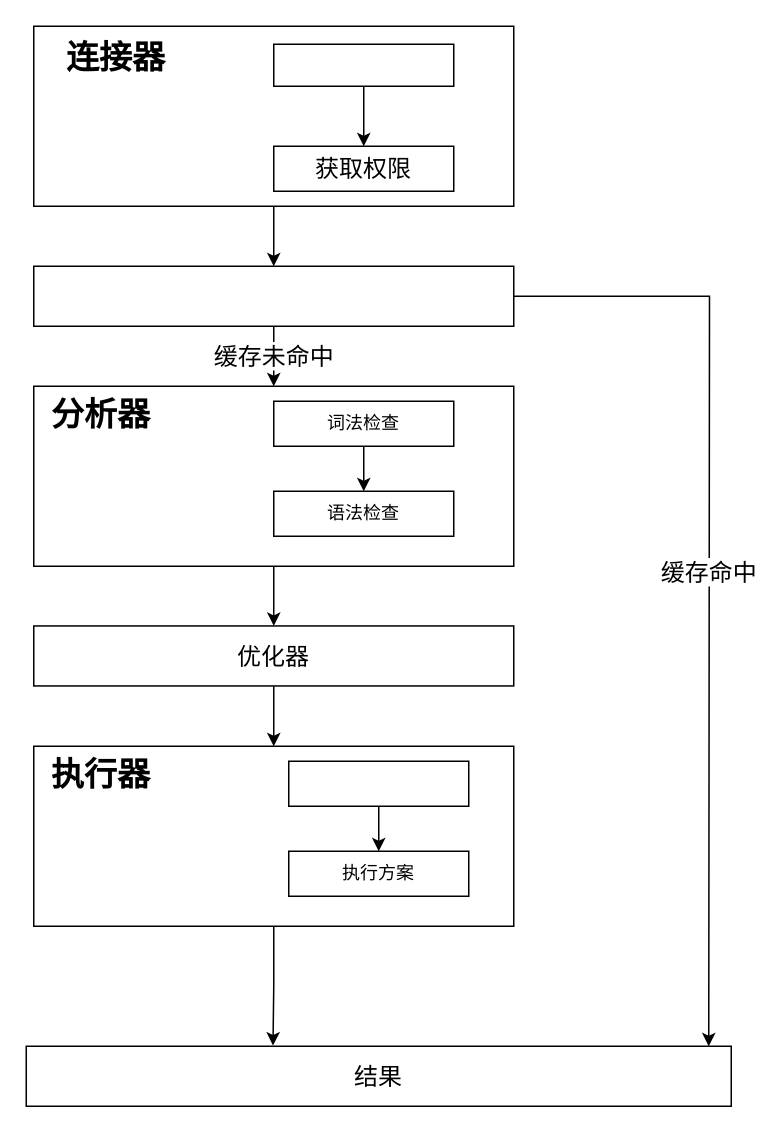
This 783x1133 diagram has some shape labels left out. Here are the shapes that lost their labels. From the top down, the centre of each, then its label:
point (363, 64): 验证账号信息
point (273, 295): 查询缓存
point (378, 783): 权限检查
